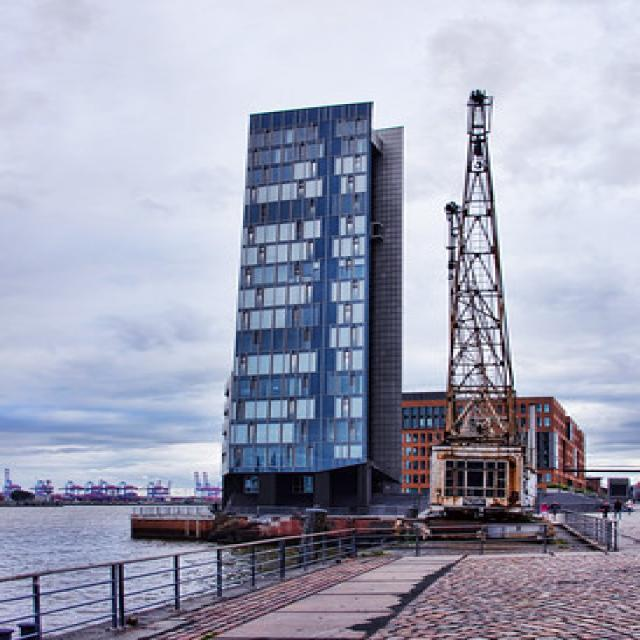Normal_building: (220, 98, 411, 518)
